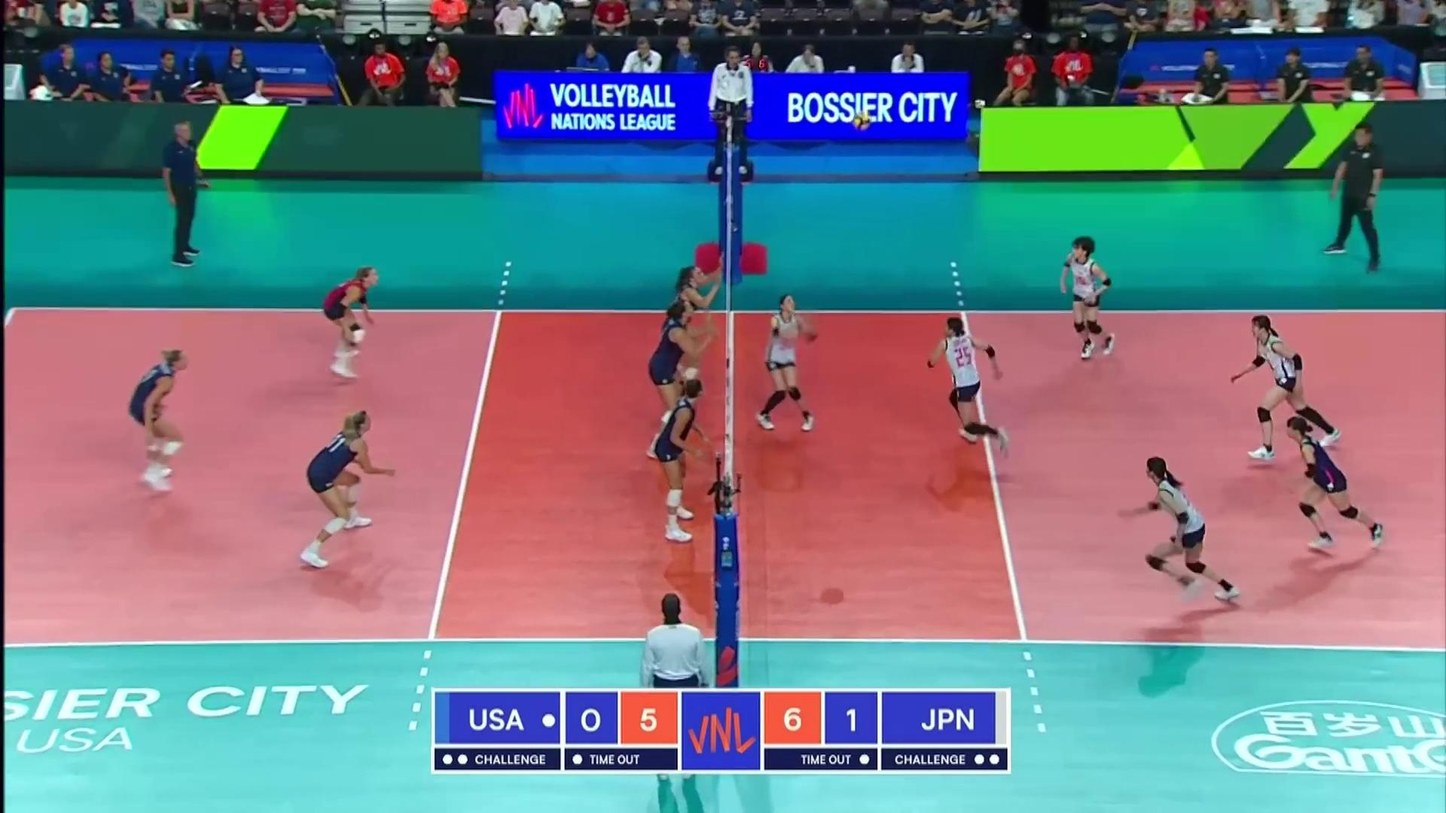player: (1124, 451, 1236, 601), (296, 411, 398, 570), (1228, 319, 1340, 461), (1284, 418, 1383, 555), (125, 350, 195, 496), (928, 315, 1003, 445), (649, 303, 708, 465), (758, 290, 824, 431), (653, 379, 709, 539), (658, 263, 718, 412), (317, 266, 380, 383), (1059, 235, 1117, 359)
refree: (642, 598, 704, 781), (707, 45, 753, 175)
